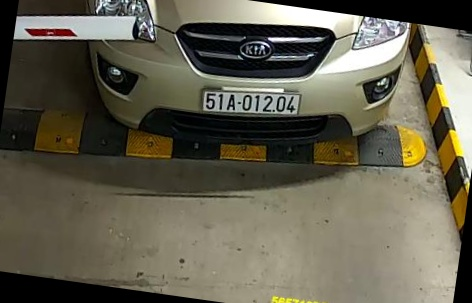plate: (193, 78, 300, 126)
